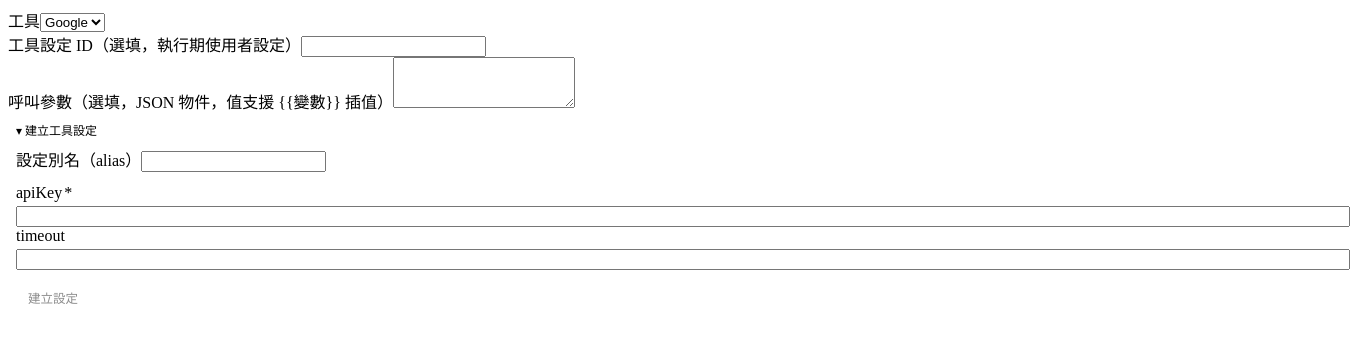
Test: ToolForm › 工具設定建立區塊 › saveToolSetting 回傳缺 settingId 時顯示錯誤且不呼叫 updateToolSetting
Step 1. Type "my-alias" into the field with test id "setting-alias" → x=234, y=162, box [141,151,326,172]
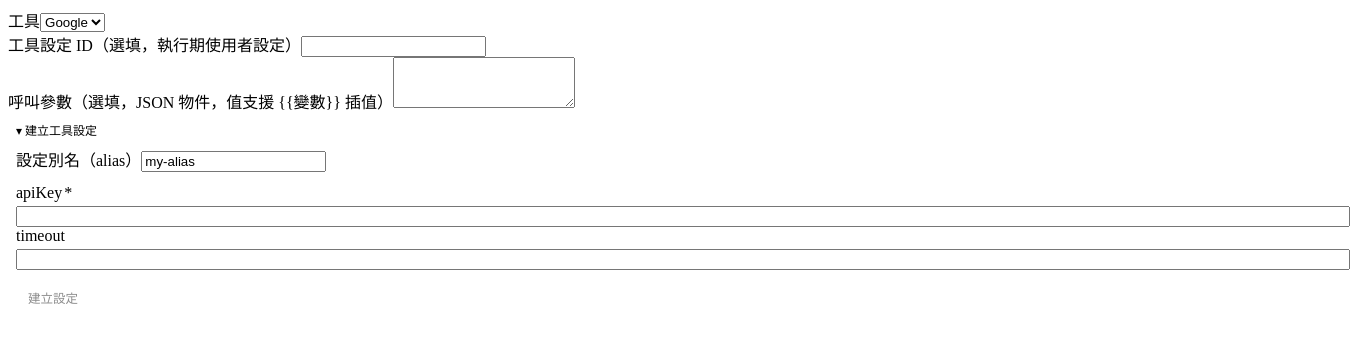
// 必填 apiKey 須填妥才能啟用建立按鈕
Step 2. Type "sk-xxx" into the password field with test id "field-apiKey" → x=683, y=216, box [16,206,1350,227]
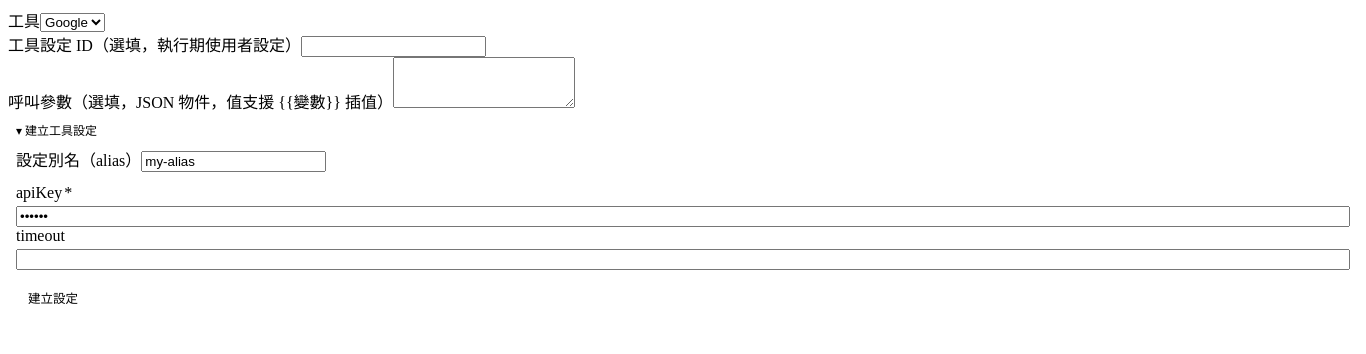
Step 3. Click the button with test id "setting-create" → x=53, y=298, box [16,282,90,313]
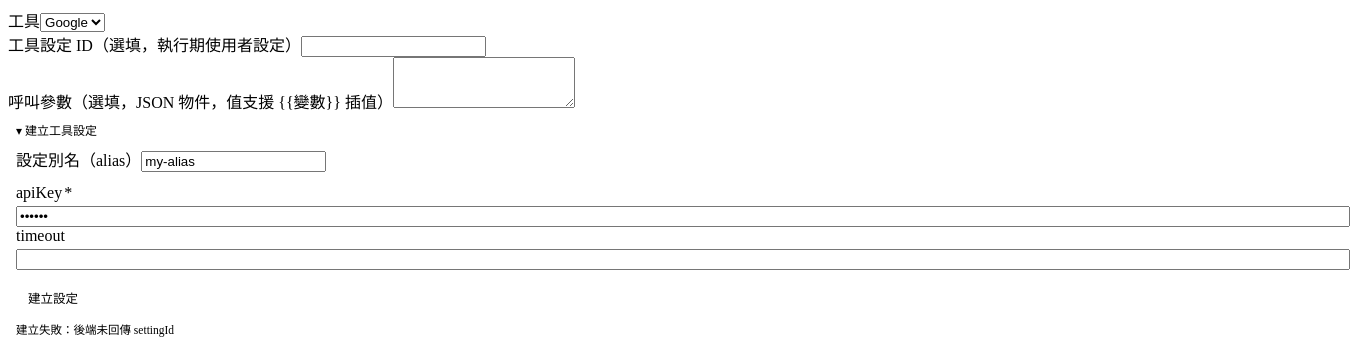
Expected: the field with test id "tool-setting-id" is empty, [301,36,486,57]
Expected: the text "建立失敗：後端未回傳 settingId" is shown, [16,324,174,336]
